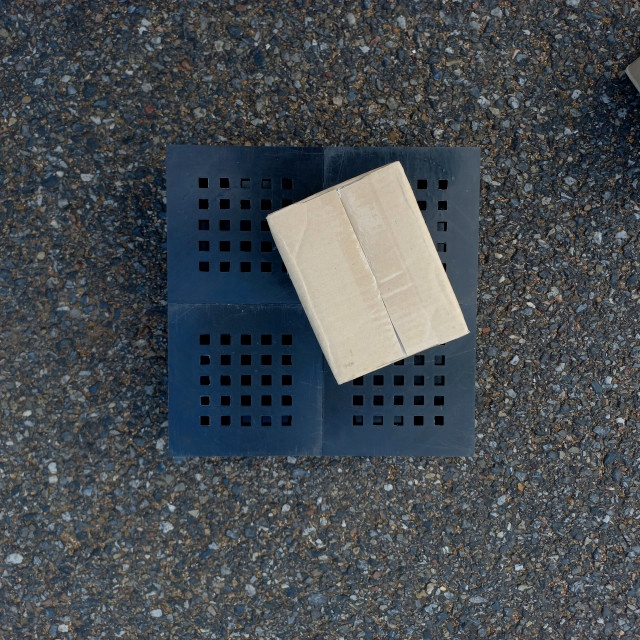box: (261, 156, 471, 388)
pallet: (171, 137, 479, 460)
